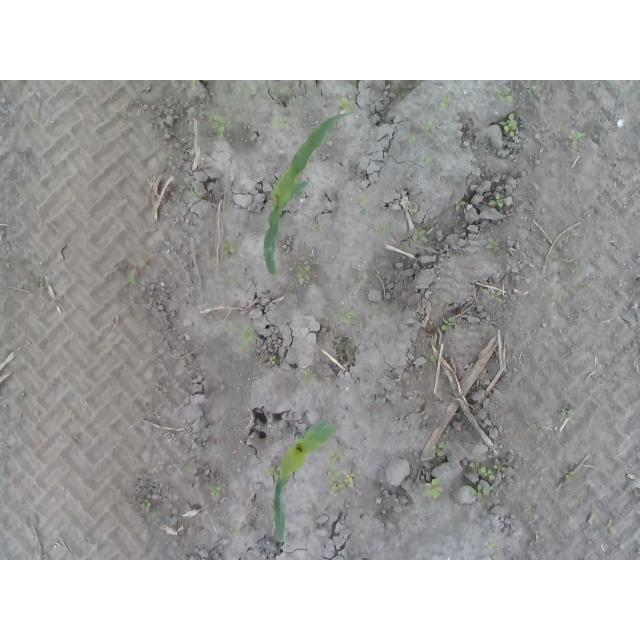Maize: (264, 112, 352, 278), (272, 419, 339, 541)
Weeds: (462, 458, 507, 499), (328, 447, 361, 498), (126, 258, 150, 284), (240, 325, 259, 355), (209, 115, 233, 138), (485, 192, 515, 210), (497, 112, 519, 136), (422, 478, 445, 499), (294, 262, 311, 286), (373, 221, 391, 239), (568, 128, 585, 147), (232, 81, 241, 112), (432, 439, 447, 457), (336, 98, 352, 114), (220, 241, 236, 256), (271, 116, 289, 129), (302, 371, 318, 385), (398, 131, 416, 143), (413, 228, 428, 242), (442, 318, 455, 334), (559, 407, 577, 418), (496, 93, 513, 104), (267, 465, 279, 480), (417, 156, 431, 168), (222, 320, 234, 333), (438, 95, 452, 106), (223, 272, 235, 284), (211, 485, 222, 498), (142, 499, 153, 512), (267, 354, 278, 367), (339, 311, 353, 321), (247, 84, 258, 96), (485, 238, 498, 248), (359, 195, 370, 206), (486, 539, 497, 550), (455, 199, 467, 209), (564, 471, 576, 481), (495, 295, 505, 305), (279, 86, 290, 95), (419, 123, 433, 130), (313, 224, 321, 236), (620, 277, 629, 287), (229, 528, 240, 536), (575, 265, 584, 274), (555, 292, 561, 304), (191, 191, 198, 198), (430, 357, 438, 363)
